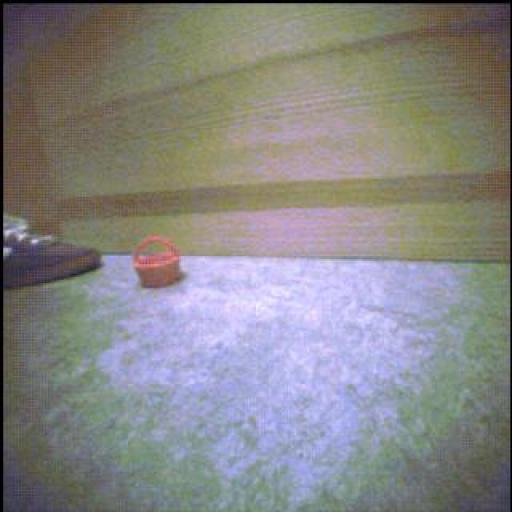Bucket: (134, 236, 182, 289)
